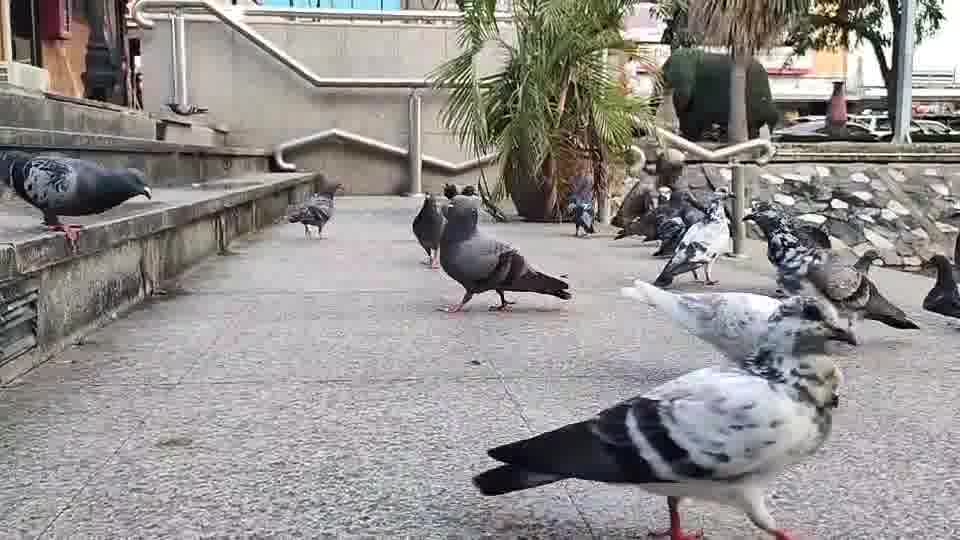Pigeon: (472, 288, 848, 539), (741, 199, 920, 345), (620, 277, 854, 369), (435, 193, 573, 313), (0, 148, 152, 251), (652, 188, 735, 288), (284, 182, 344, 240), (411, 191, 448, 268), (920, 252, 959, 322)
